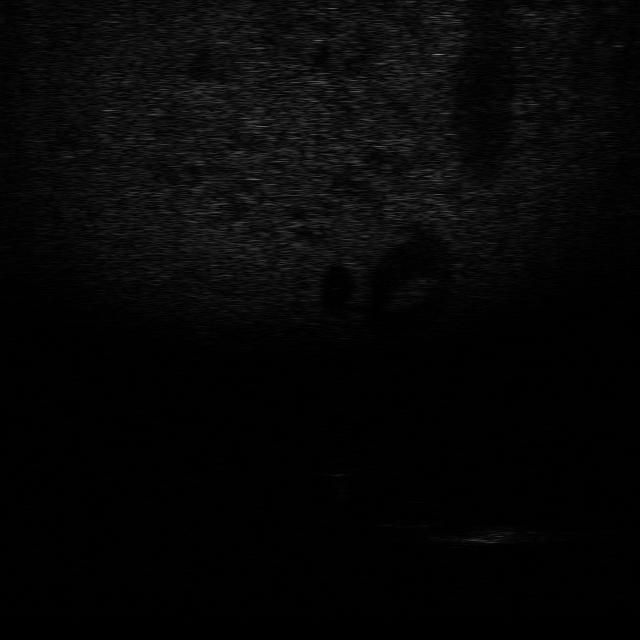ball: (316, 454, 359, 477)
metal bucket: (446, 518, 546, 549)
tyre: (371, 492, 449, 530)
